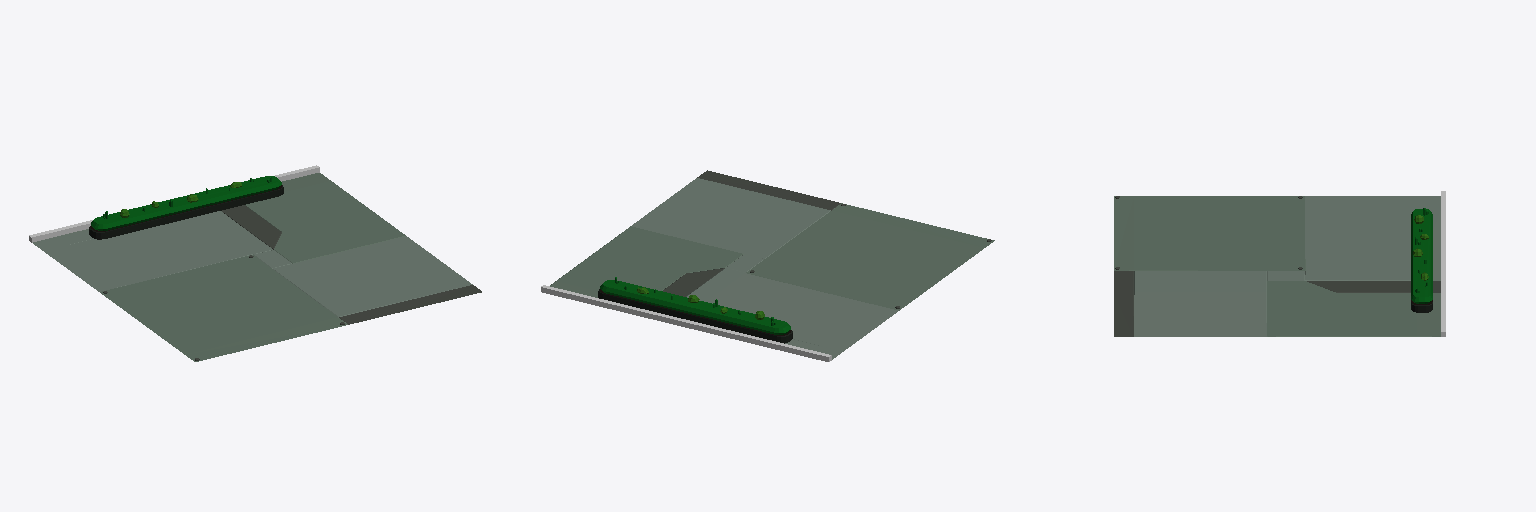
3 renders of one model, left to right at view 1: azimuth 30°, elevation 25°; view 2: azimuth 150°, elevation 25°; view 3: azimuth 270°, elevation 25°, orthographic.
Visible parts, largest first — view 1: Scifi_Panel_04_Plaza014_group4.022_Scifi_Panel_04_Plaza014_group, TreePatch_Plaza014_group3.025_TreePatch_Plaza014_group3.001, Cube.925_Cube.005; view 2: Scifi_Panel_04_Plaza014_group4.022_Scifi_Panel_04_Plaza014_group, TreePatch_Plaza014_group3.025_TreePatch_Plaza014_group3.001, Cube.925_Cube.005; view 3: Scifi_Panel_04_Plaza014_group4.022_Scifi_Panel_04_Plaza014_group, TreePatch_Plaza014_group3.025_TreePatch_Plaza014_group3.001, Cube.925_Cube.005.
Boxes of the visible parts, box(x1,y1,x2,y2) form: Scifi_Panel_04_Plaza014_group4.022_Scifi_Panel_04_Plaza014_group: box(33, 173, 481, 361); TreePatch_Plaza014_group3.025_TreePatch_Plaza014_group3.001: box(89, 176, 283, 239); Cube.925_Cube.005: box(29, 165, 319, 242); Scifi_Panel_04_Plaza014_group4.022_Scifi_Panel_04_Plaza014_group: box(550, 170, 994, 359); TreePatch_Plaza014_group3.025_TreePatch_Plaza014_group3.001: box(598, 280, 792, 343); Cube.925_Cube.005: box(541, 285, 831, 361); Scifi_Panel_04_Plaza014_group4.022_Scifi_Panel_04_Plaza014_group: box(1114, 196, 1440, 336); TreePatch_Plaza014_group3.025_TreePatch_Plaza014_group3.001: box(1411, 209, 1432, 312); Cube.925_Cube.005: box(1441, 191, 1445, 336).
Bounding box in the file's own units: 10 × 0.7155 × 10.